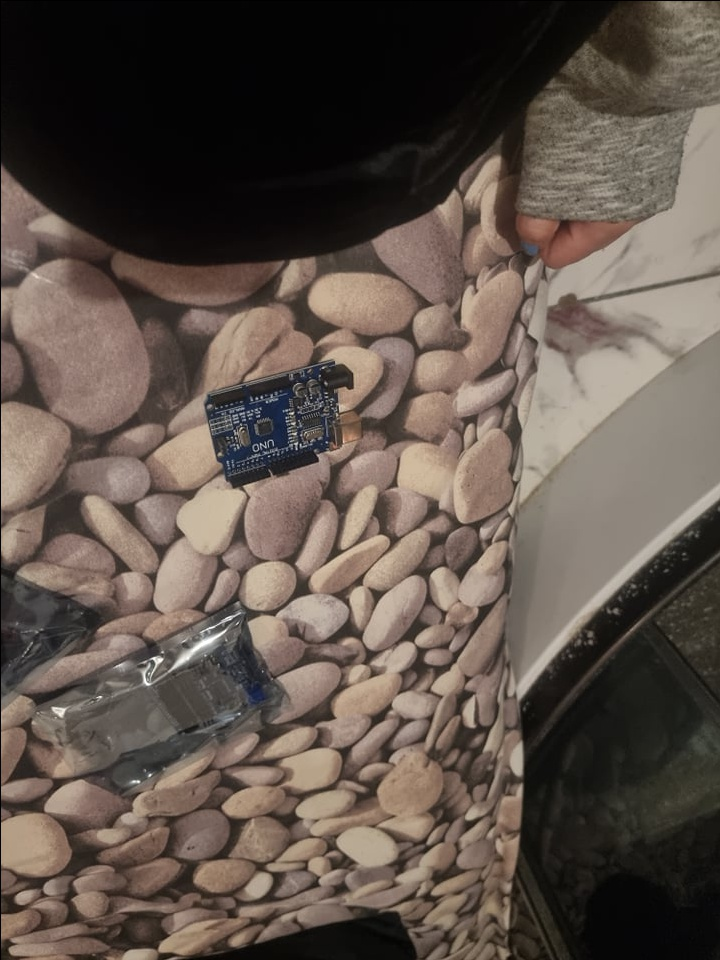UNO R3: (199, 360, 362, 489)
